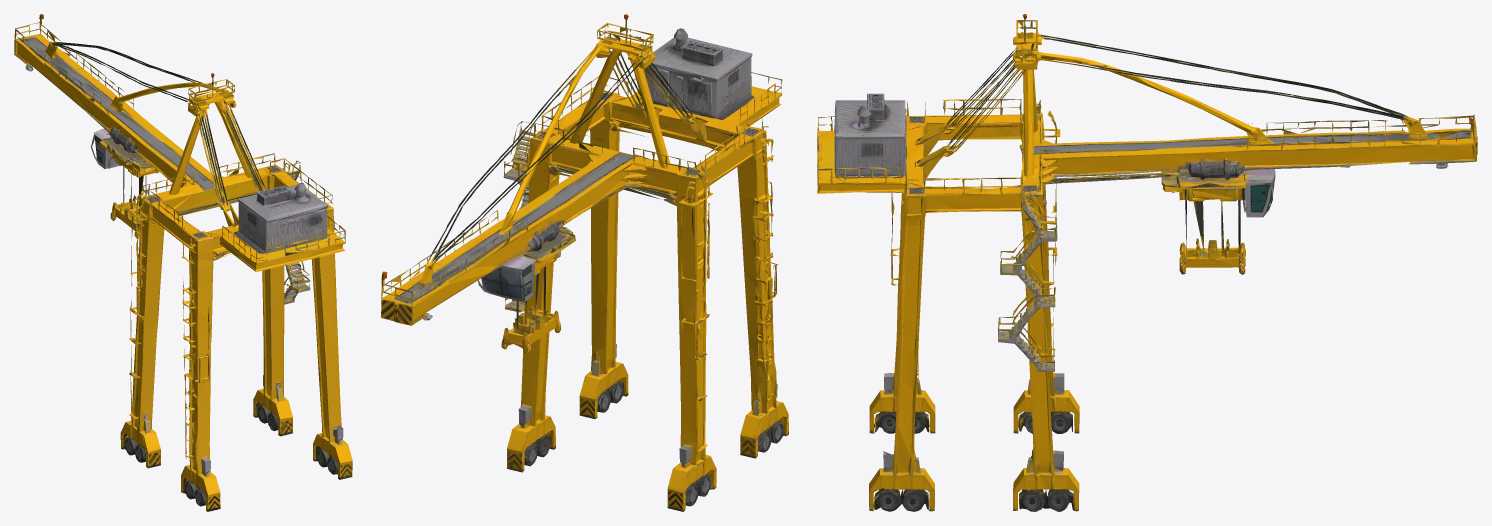
File: kran.glb
The picture shows the model from 3 angles, left to right: view 1: azimuth 30°, elevation 25°; view 2: azimuth 150°, elevation 25°; view 3: azimuth 270°, elevation 25°; orthographic projection. The views are drawn at different scales.
Parts seen in each view (by area): view 1: Mesh_0; view 2: Mesh_0; view 3: Mesh_0.
Boxes of the visible parts, x1,y1,x2,y2 form: Mesh_0: (14,14,352,511); Mesh_0: (381,14,788,511); Mesh_0: (817,14,1477,511).
Bounding box in the file's own units: 17.02 × 38.3 × 50.54.
Materials: 1 (1 with a texture image).
